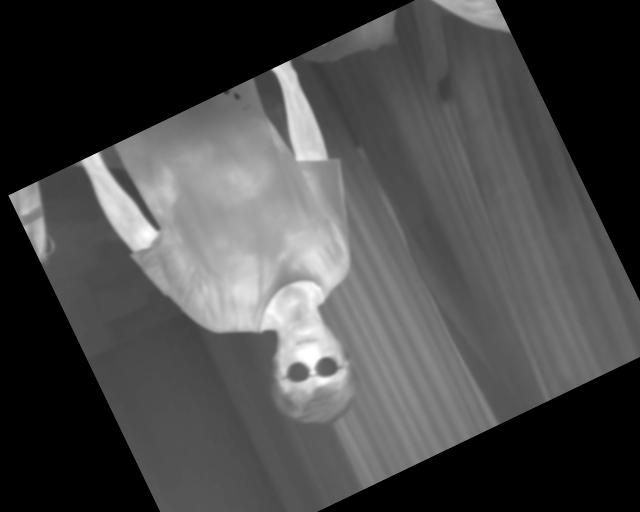face: (245, 304, 373, 443)
